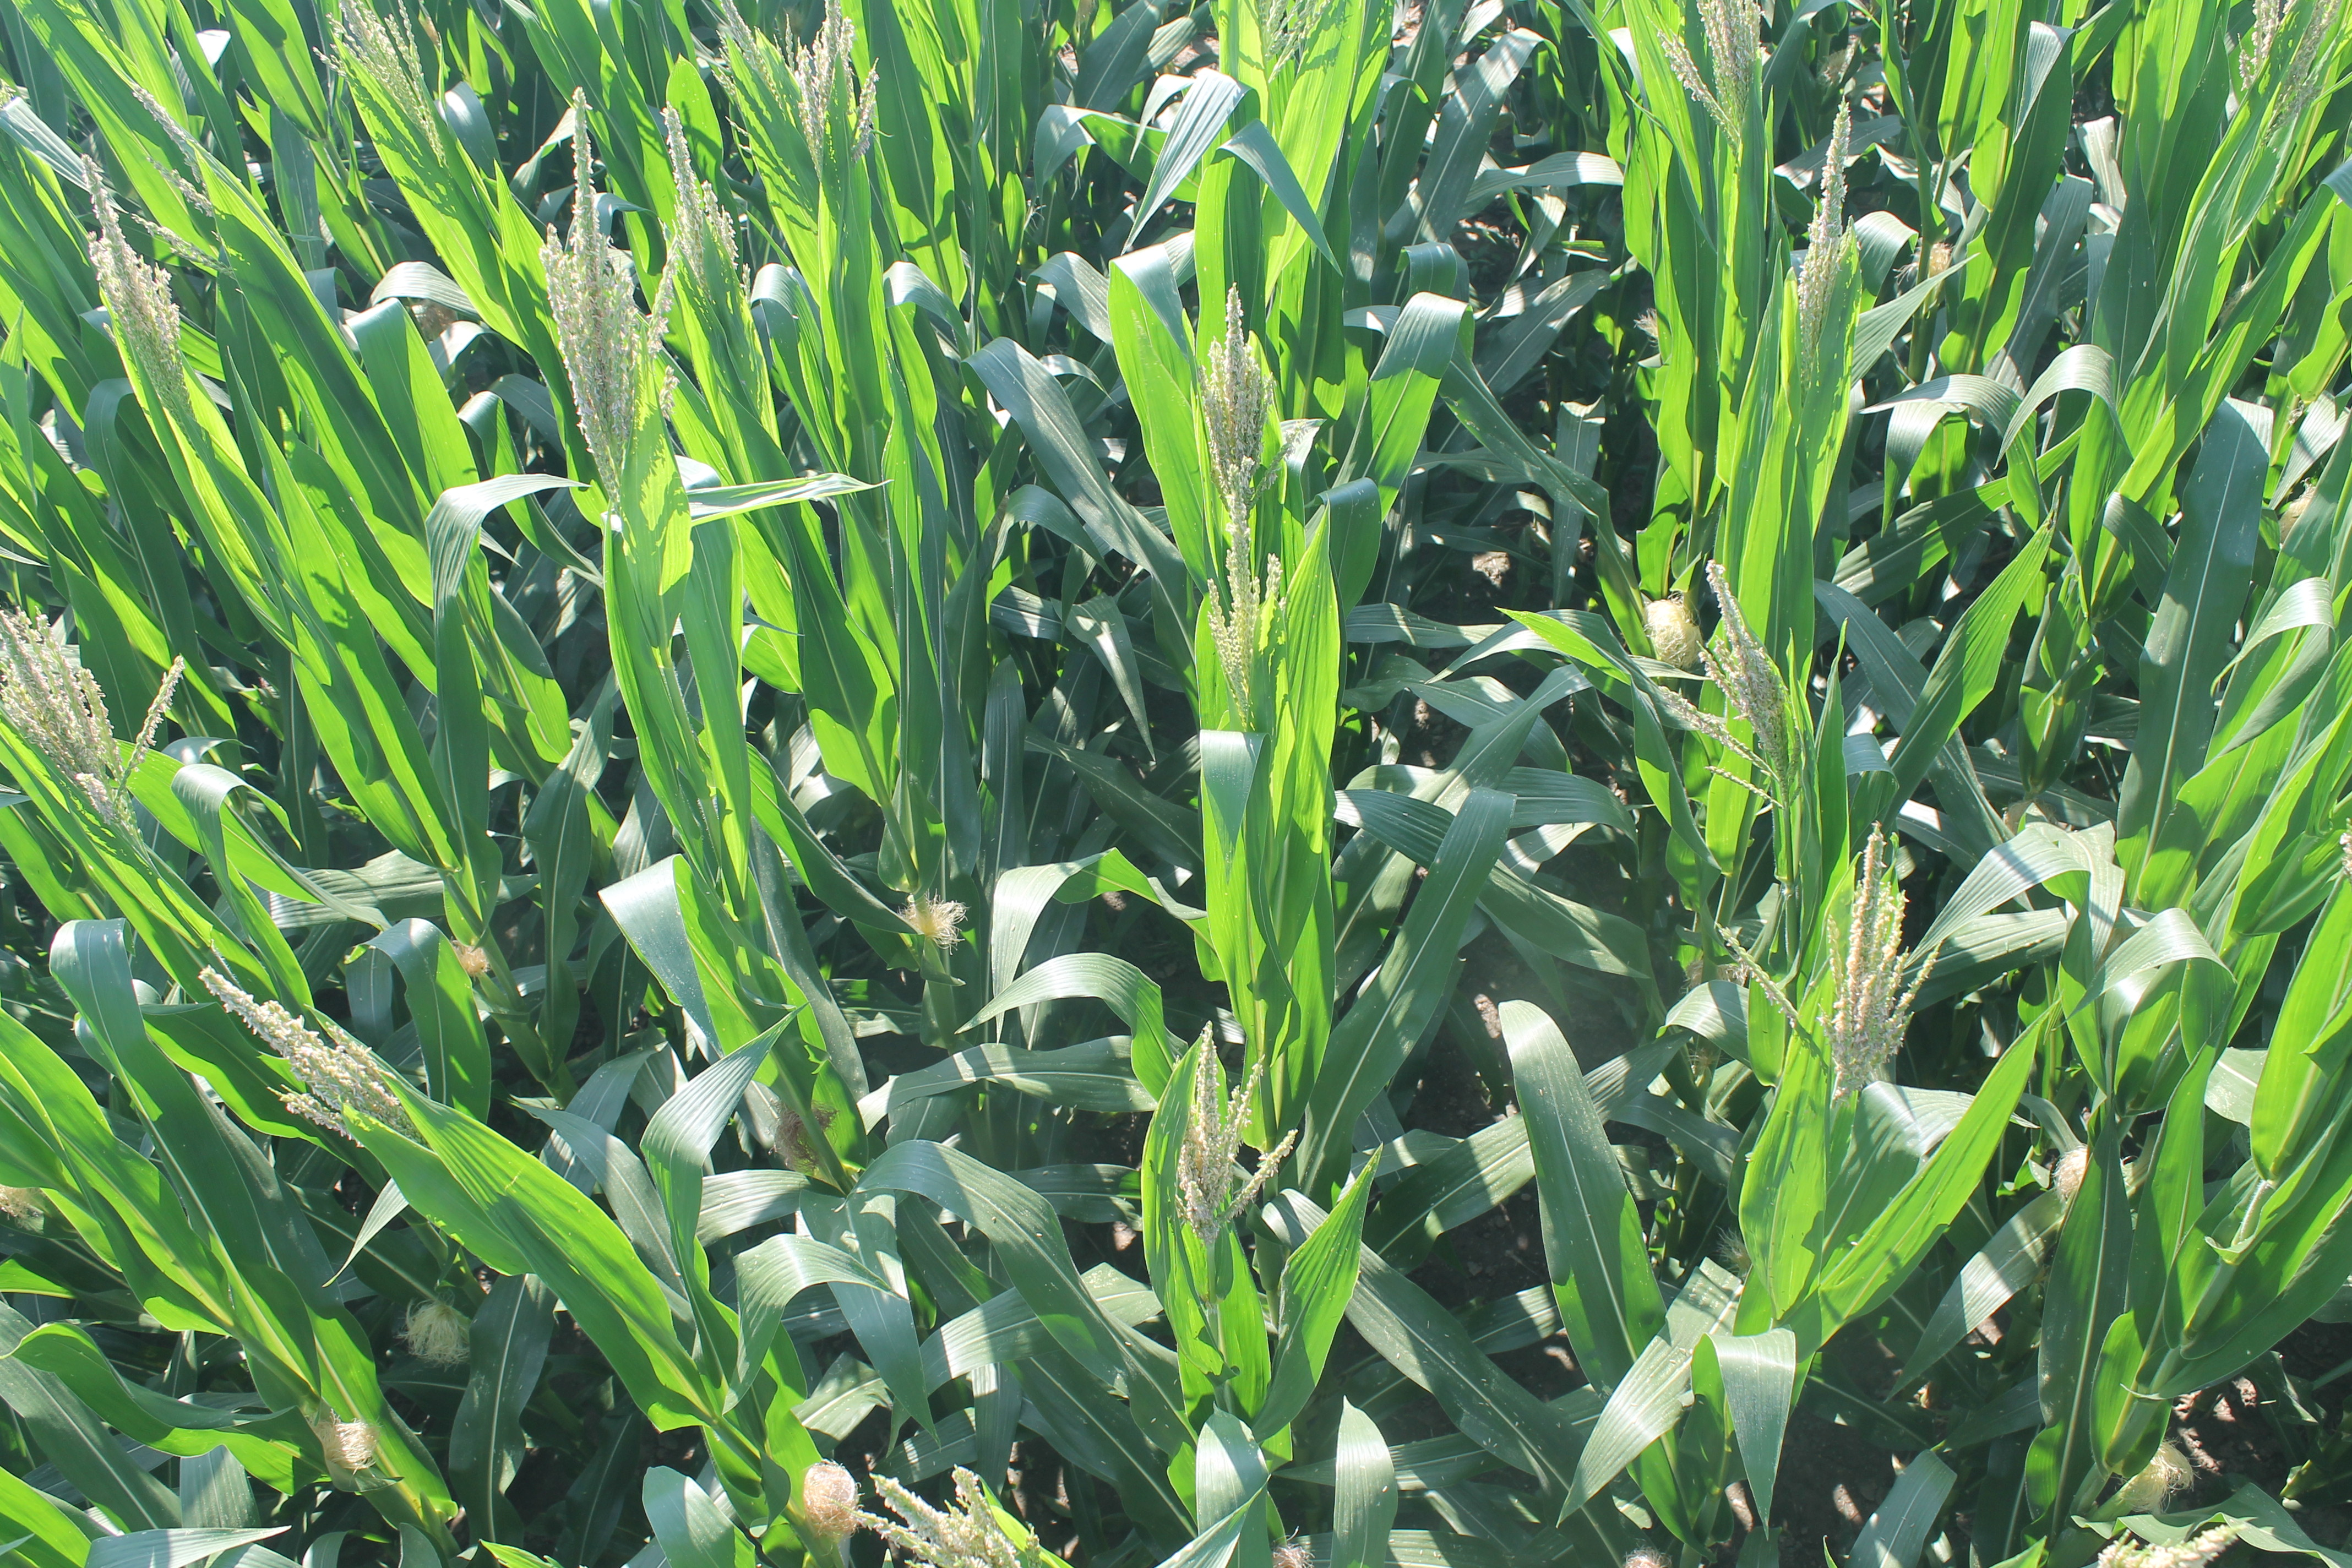Maize: (1729, 819, 1942, 1097), (0, 590, 206, 836), (203, 959, 425, 1172), (532, 108, 640, 514), (1169, 287, 1304, 581), (1169, 1003, 1311, 1237), (1641, 558, 1795, 772), (847, 1440, 1069, 1568), (175, 101, 310, 299), (52, 152, 163, 378), (759, 2, 894, 177), (1172, 584, 1298, 765), (2212, 2, 2352, 152), (1657, 0, 1788, 152), (338, 5, 472, 149), (1795, 117, 1876, 343), (647, 121, 747, 299), (1235, 0, 1351, 105)
